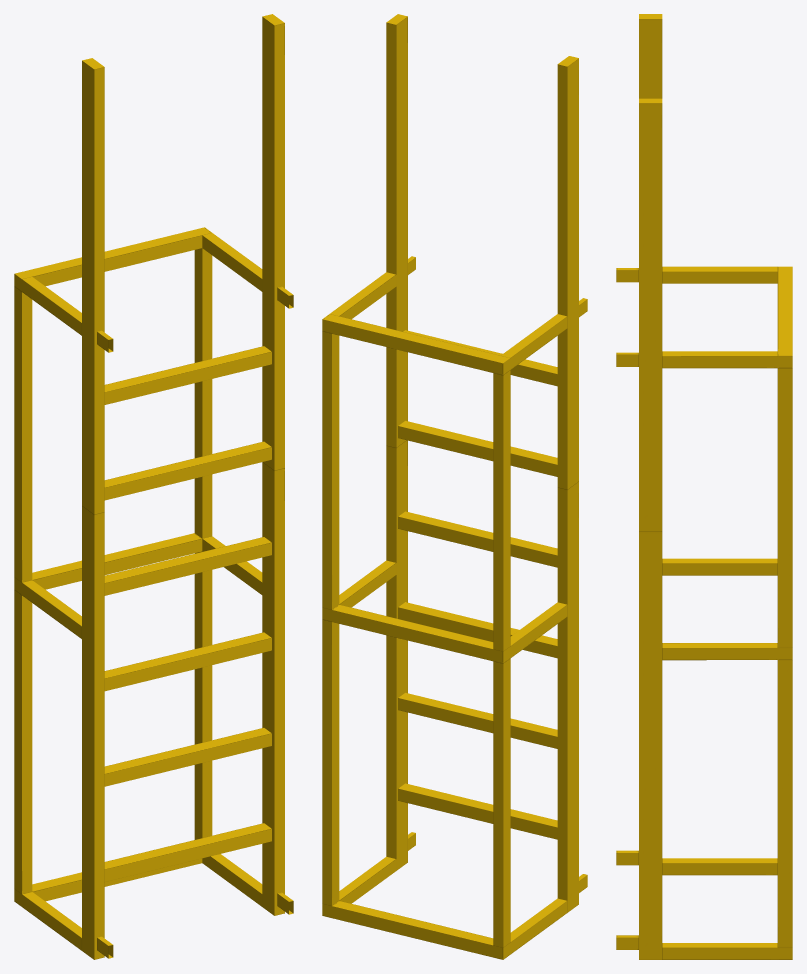
Rendered from Platerform_Metal_Stair_03.FBX.
3 renders of one model, left to right at view 1: azimuth 30°, elevation 25°; view 2: azimuth 150°, elevation 25°; view 3: azimuth 270°, elevation 25°, orthographic. The views are drawn at different scales.
Parts seen in each view (by area): view 1: Platerform_Metal_Stair_03; view 2: Platerform_Metal_Stair_03; view 3: Platerform_Metal_Stair_03.
Boxes of the visible parts, x1,y1,x2,y2 form: Platerform_Metal_Stair_03: (14,14,293,959); Platerform_Metal_Stair_03: (322,14,587,959); Platerform_Metal_Stair_03: (616,14,792,959).
Bounding box in the file's own units: 1.57 × 7 × 1.3.
